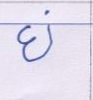anusvara: (45, 10, 49, 14)
